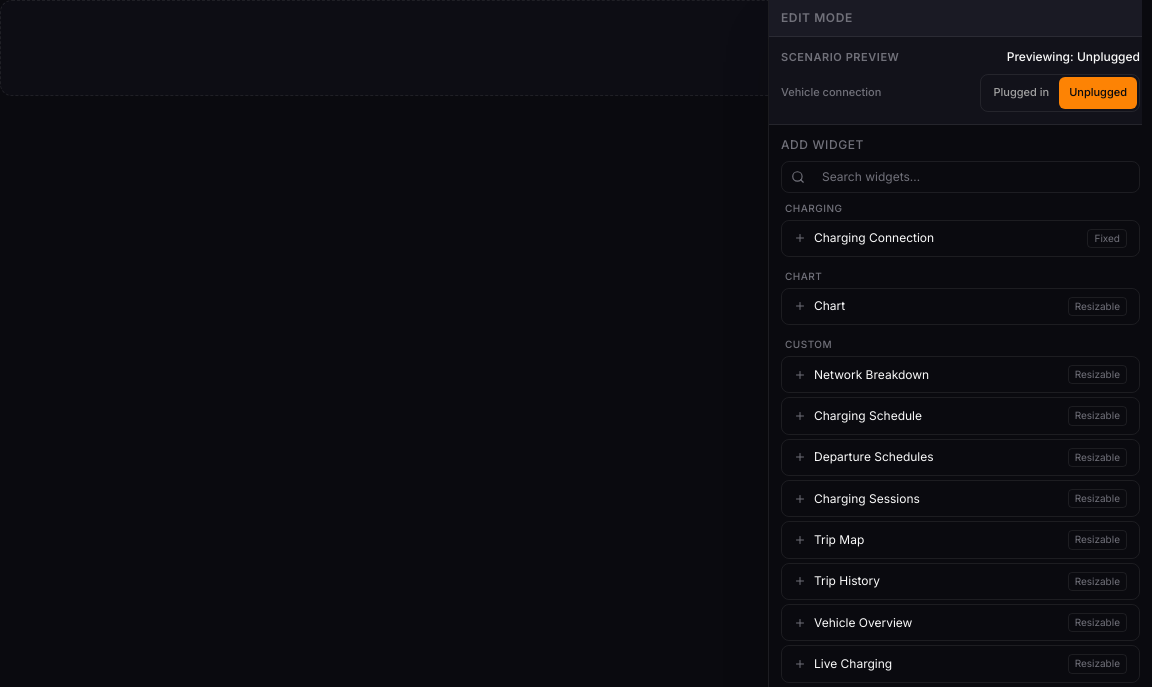
Scenario: charging connection custom widget › previews both conditional layouts in edit mode without changing live vehicle state
Expected: the text "Previewing: Unplugged" is shown, [1007, 49, 1140, 65]
Click the button "Plugged in": (1021, 92) [984, 76, 1059, 108]
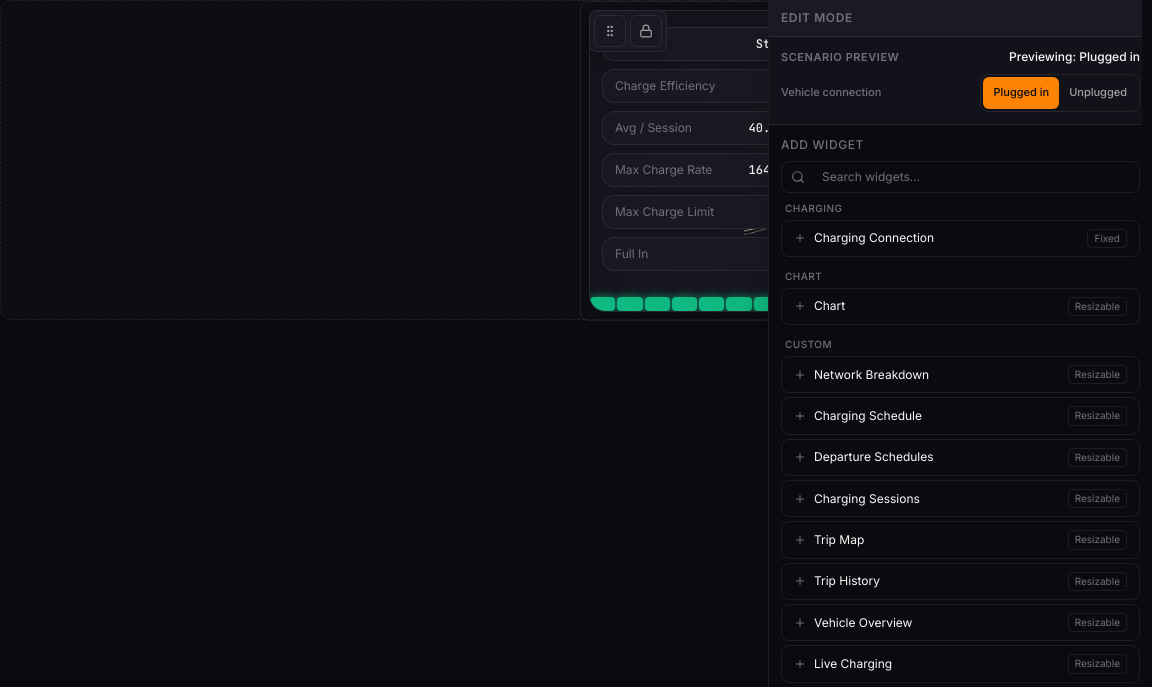
Result: the text "Previewing: Plugged in" is shown at [1009, 49, 1140, 65]
Result: the element with test id "charging-connection-chip" is shown at [589, 10, 1134, 312]
Result: the element with test id "sensor-chip" is gone
